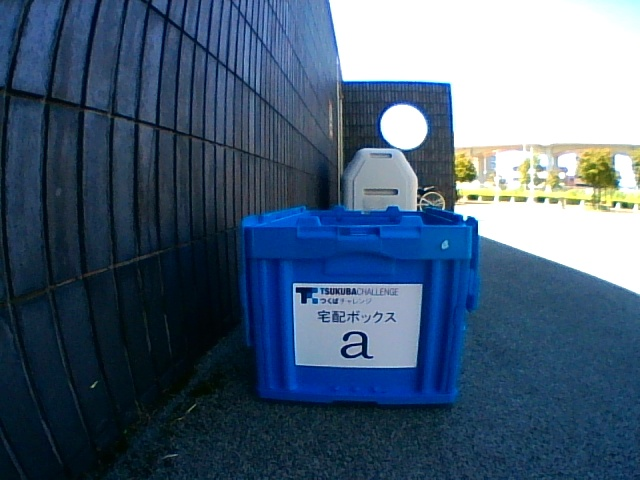blue_box: (240, 206, 479, 405)
tag_a: (296, 286, 416, 365)
